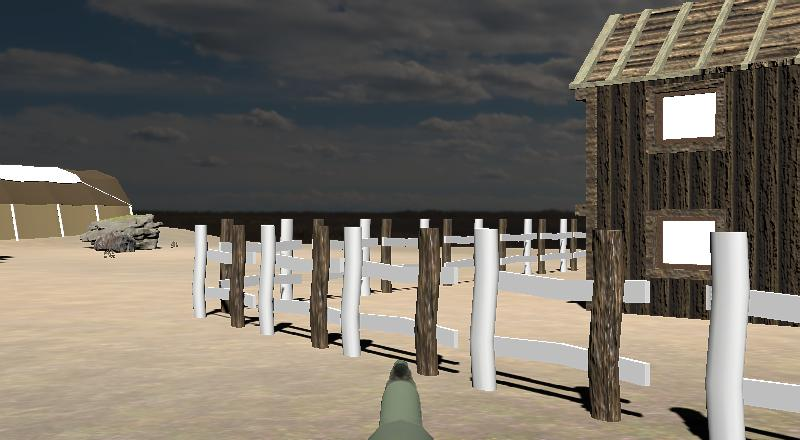House: (567, 0, 800, 314)
